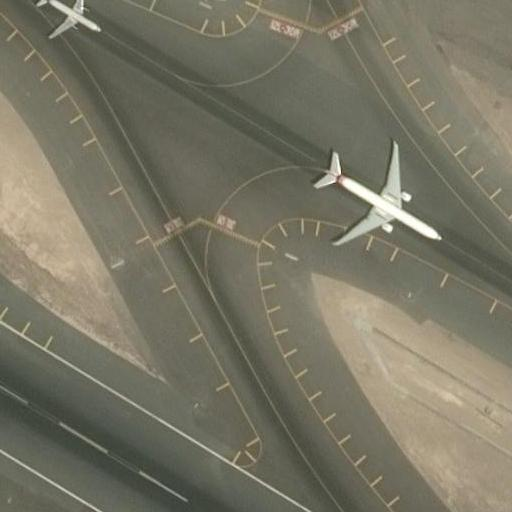Aircraft: (303, 139, 441, 264), (29, 0, 109, 51)
